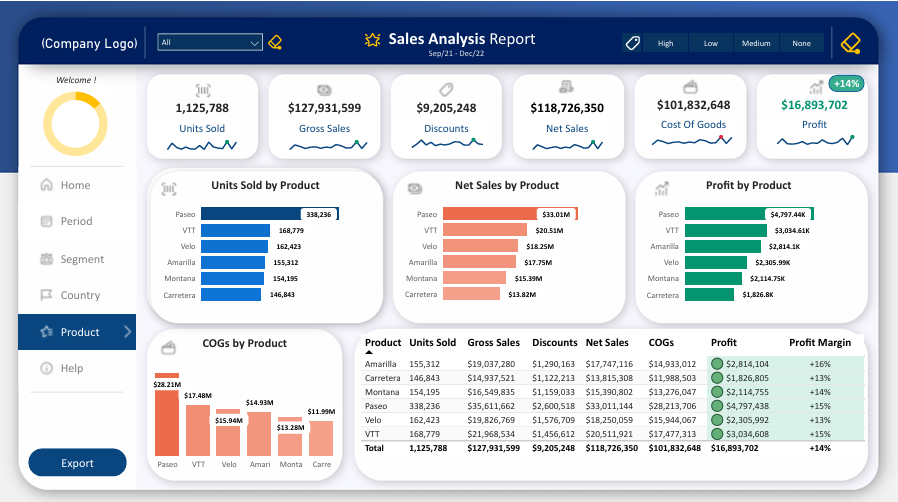

Layout of this report page (visuals, bound fields, positions):
{"tool":"powerbi","page":{"name":"Net Sales","canvas":[1280,720],"ordinal":4},"visuals":[{"type":"textbox","title":"Text box Title","box":[550,31.5,235,41],"z":0,"group":"g2"},{"type":"group","id":"g1","title":"Navigation","box":[28,101,168,574],"z":0},{"type":"areaChart","title":"Net Sales by Period","fields":{"Category":["DIM_DATE.Reporting Period"],"Y":["Measure.M_Net Sales"]},"box":[234.3,118.6,475.7,255.7],"z":0,"group":"g3"},{"type":"actionButton","title":"Button_Export","box":[42,635,140,40],"z":0,"group":"g1"},{"type":"group","id":"g2","title":"Header","box":[50,31.5,1183,56.5],"z":1000},{"type":"textbox","title":"Text box Logo","box":[50,41.2,157.5,37.5],"z":1000,"group":"g2"},{"type":"clusteredBarChart","title":"Net Sales by Country","fields":{"Y":["Measure.M_Net Sales"],"Category":["FACT_SALES.Country Name Short"]},"box":[234.3,402.9,475.7,255.7],"z":1000,"group":"g3"},{"type":"shape","title":"Shape_Bottom_Nav_divider","box":[45,539,132,32],"z":1000,"group":"g1"},{"type":"slicer","title":"Slicer_Discount_Band","fields":{"Values":["FACT_SALES.Discount Band"]},"box":[892,38,306,41],"z":2000,"group":"g2"},{"type":"group","id":"g3","title":"Net_Sales_Drillthrough","box":[234.3,118.6,987.1,540],"z":2000},{"type":"shape","title":"Shape_Top_Nav_divider","box":[45,218,132,32],"z":2000,"group":"g1"},{"type":"clusteredBarChart","title":"Net Sales by Product","fields":{"Y":["Measure.M_Net Sales"],"Category":["FACT_SALES.Product"]},"box":[745.7,402.9,475.7,255.7],"z":2000,"group":"g3"},{"type":"slicer","title":"Slicer Managers","fields":{"Values":["DIM_MANAGERS.Manager Name"]},"box":[216,35,170,45],"z":3000,"group":"g2"},{"type":"clusteredBarChart","title":"Net Sales by Segment","fields":{"Y":["Measure.M_Net Sales"],"Category":["FACT_SALES.Segment"]},"box":[745.7,118.6,475.7,255.7],"z":3000,"group":"g3"},{"type":"pivotTable","title":"Spark_Net_Sales","fields":{"Values":["SparklineData(Measure.M_Net Sales_[DIM_DATE.YearMonth])"]},"box":[33,158.4,157.3,64.6],"z":3000,"group":"g4"},{"type":"actionButton","title":"Button_Help","box":[28,496,167.1,50],"z":3000,"group":"g1"},{"type":"actionButton","title":"Button Title Icon","box":[500,33.5,63,40],"z":4000,"group":"g2"},{"type":"cardVisual","title":"Card Date Range","fields":{"Data":["Measure.M_Date Selection"]},"box":[590,50,123,38],"z":5000,"group":"g2"},{"type":"actionButton","title":"Button_Product","box":[28,443.8,167.1,50],"z":5000,"group":"g1"},{"type":"actionButton","title":"Button Discount icon","box":[888,45,27,27],"z":6000,"group":"g2"},{"type":"actionButton","title":"Button Clear Discount","box":[1193,41,40,40],"z":7000,"group":"g2"},{"type":"actionButton","title":"Button_Country","box":[28,391.6,167.1,50],"z":7000,"group":"g1"},{"type":"shape","title":"Divider Line Left","box":[192,35,32,45],"z":8000,"group":"g2"},{"type":"cardVisual","title":"Card_Net_Sales","fields":{"Data":["Measure.M_Net Sales"]},"box":[39.6,116.6,144.2,88.5],"z":8500,"group":"g4"},{"type":"shape","title":"Divider Line Right","box":[1170,35,31.2,45],"z":9000,"group":"g2"},{"type":"actionButton","title":"Button_Segment","box":[28,339.4,167.1,50],"z":9000,"group":"g1"},{"type":"actionButton","title":"Button_Period","box":[28,287.2,167.1,50],"z":11000,"group":"g1"},{"type":"actionButton","title":"Button_Home","box":[28,235,168,50],"z":12000,"group":"g1"},{"type":"group","id":"g4","title":"Net_Sales_Card","box":[33,101,157.3,122],"z":12500,"group":"g1"},{"type":"actionButton","title":"Button_Net_Sales","box":[95.7,101,32.7,31],"z":14500,"group":"g4"}]}

Visuals, with their boxes in screenshot pixels (x1, y1, x2, y2), scaled from the page's 1280x720 canvas onto the 898x502 screenshot:
"Text box Title" textbox: pyautogui.locateOnScreen(386, 22, 551, 51)
"Navigation" group: pyautogui.locateOnScreen(20, 70, 138, 471)
"Net Sales by Period" areaChart: pyautogui.locateOnScreen(164, 83, 498, 261)
"Button_Export" actionButton: pyautogui.locateOnScreen(29, 443, 128, 471)
"Header" group: pyautogui.locateOnScreen(35, 22, 865, 61)
"Text box Logo" textbox: pyautogui.locateOnScreen(35, 29, 146, 55)
"Net Sales by Country" clusteredBarChart: pyautogui.locateOnScreen(164, 281, 498, 459)
"Shape_Bottom_Nav_divider" shape: pyautogui.locateOnScreen(32, 376, 124, 398)
"Slicer_Discount_Band" slicer: pyautogui.locateOnScreen(626, 26, 840, 55)
"Net_Sales_Drillthrough" group: pyautogui.locateOnScreen(164, 83, 857, 459)
"Shape_Top_Nav_divider" shape: pyautogui.locateOnScreen(32, 152, 124, 174)
"Net Sales by Product" clusteredBarChart: pyautogui.locateOnScreen(523, 281, 857, 459)
"Slicer Managers" slicer: pyautogui.locateOnScreen(152, 24, 271, 56)
"Net Sales by Segment" clusteredBarChart: pyautogui.locateOnScreen(523, 83, 857, 261)
"Spark_Net_Sales" pivotTable: pyautogui.locateOnScreen(23, 110, 134, 155)
"Button_Help" actionButton: pyautogui.locateOnScreen(20, 346, 137, 381)
"Button Title Icon" actionButton: pyautogui.locateOnScreen(351, 23, 395, 51)
"Card Date Range" cardVisual: pyautogui.locateOnScreen(414, 35, 500, 61)
"Button_Product" actionButton: pyautogui.locateOnScreen(20, 309, 137, 344)
"Button Discount icon" actionButton: pyautogui.locateOnScreen(623, 31, 642, 50)
"Button Clear Discount" actionButton: pyautogui.locateOnScreen(837, 29, 865, 56)
"Button_Country" actionButton: pyautogui.locateOnScreen(20, 273, 137, 308)
"Divider Line Left" shape: pyautogui.locateOnScreen(135, 24, 157, 56)
"Card_Net_Sales" cardVisual: pyautogui.locateOnScreen(28, 81, 129, 143)
"Divider Line Right" shape: pyautogui.locateOnScreen(821, 24, 843, 56)
"Button_Segment" actionButton: pyautogui.locateOnScreen(20, 237, 137, 271)
"Button_Period" actionButton: pyautogui.locateOnScreen(20, 200, 137, 235)
"Button_Home" actionButton: pyautogui.locateOnScreen(20, 164, 138, 199)
"Net_Sales_Card" group: pyautogui.locateOnScreen(23, 70, 134, 155)
"Button_Net_Sales" actionButton: pyautogui.locateOnScreen(67, 70, 90, 92)
